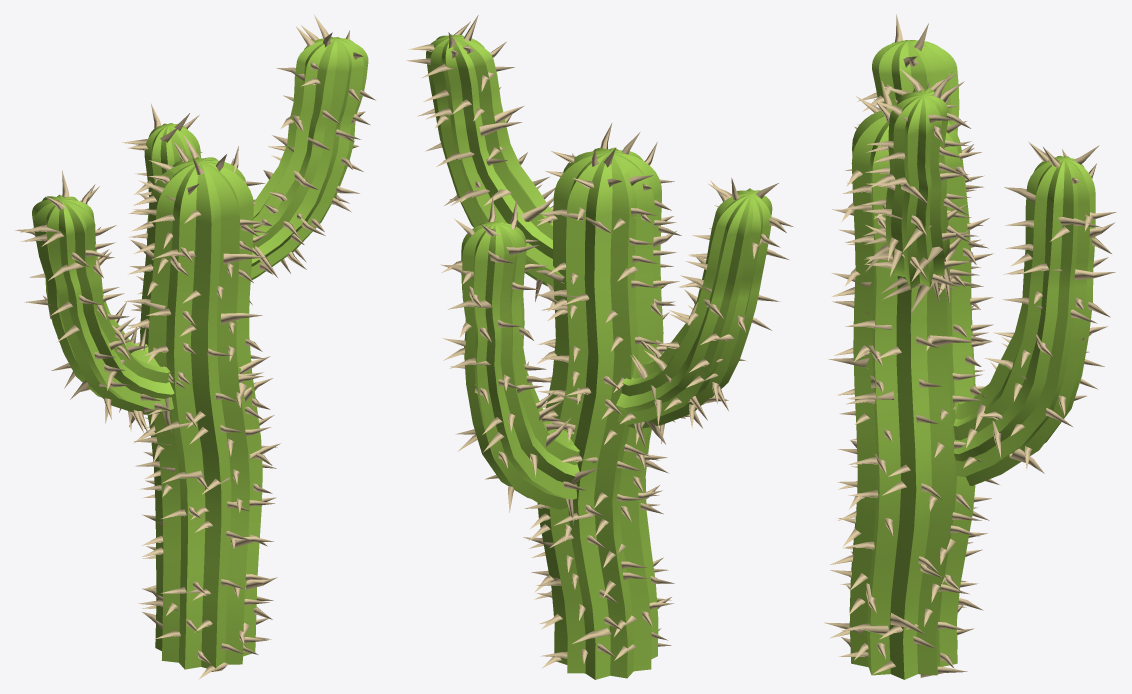
The model's file is LCactus2.fbx.
The picture shows the model from 3 angles, left to right: view 1: azimuth 30°, elevation 25°; view 2: azimuth 150°, elevation 25°; view 3: azimuth 270°, elevation 25°; orthographic projection. The views are drawn at different scales.
Parts seen in each view (by area): view 1: LCactus2; view 2: LCactus2; view 3: LCactus2.
Part boxes in pixels (bbox=[...]): LCactus2: bbox=[15, 15, 375, 679]; LCactus2: bbox=[406, 15, 793, 679]; LCactus2: bbox=[824, 14, 1116, 679].
Bounding box in the file's own units: 348 × 556 × 224.
